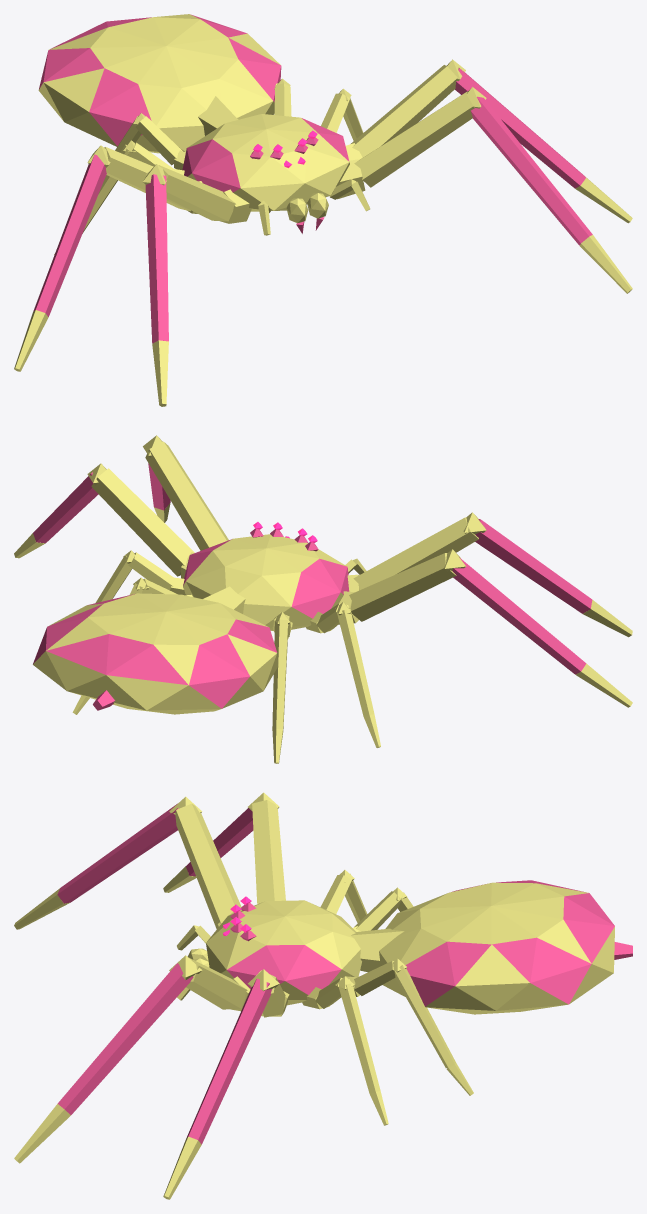
Rendered from crab.glb.
3 views of the same model, one above another, from view 1: azimuth 30°, elevation 25°; view 2: azimuth 150°, elevation 25°; view 3: azimuth 270°, elevation 25° (orthographic). The views are drawn at different scales.
Parts seen in each view (by area): view 1: abdomen, body, leg_L1_lower, leg_R1_lower, leg_R2_lower, leg_L1_upper, leg_L2_lower, leg_L2_upper, leg_R1_upper, leg_R2_upper, leg_R4_upper, fangs (+2 smaller); view 2: abdomen, body, leg_R2_lower, leg_R1_lower, leg_L2_upper, leg_L1_upper, leg_R2_upper, leg_R1_upper, leg_L2_lower, leg_R3_lower, leg_R4_lower, leg_L3_upper (+3 smaller); view 3: abdomen, body, leg_L1_lower, leg_L2_lower, leg_R1_lower, leg_R1_upper, leg_R2_upper, leg_L3_lower, leg_L4_lower, leg_L1_upper, leg_R2_lower, leg_R4_upper (+4 smaller).
Part boxes in pixels (x1=…): abdomen: x1=38, y1=14, x2=281, y2=153; body: x1=182, y1=114, x2=349, y2=211; leg_L1_lower: x1=466, y1=87, x2=632, y2=293; leg_R1_lower: x1=143, y1=164, x2=168, y2=406; leg_R2_lower: x1=14, y1=145, x2=110, y2=371; leg_L1_upper: x1=337, y1=91, x2=474, y2=199; leg_L2_lower: x1=447, y1=59, x2=632, y2=223; leg_L2_upper: x1=345, y1=65, x2=457, y2=160; leg_R1_upper: x1=146, y1=165, x2=251, y2=223; leg_R2_upper: x1=104, y1=147, x2=202, y2=213; leg_R4_upper: x1=135, y1=116, x2=185, y2=169; fangs: x1=286, y1=193, x2=328, y2=233; abdomen: x1=33, y1=586, x2=278, y2=714; body: x1=183, y1=522, x2=349, y2=630; leg_R2_lower: x1=444, y1=549, x2=632, y2=707; leg_R1_lower: x1=463, y1=512, x2=632, y2=637; leg_L2_upper: x1=91, y1=468, x2=194, y2=578; leg_L1_upper: x1=145, y1=441, x2=228, y2=550; leg_R2_upper: x1=339, y1=553, x2=456, y2=624; leg_R1_upper: x1=347, y1=517, x2=478, y2=592; leg_L2_lower: x1=14, y1=463, x2=106, y2=558; leg_R3_lower: x1=335, y1=602, x2=380, y2=747; leg_R4_lower: x1=272, y1=612, x2=290, y2=763; leg_L3_upper: x1=128, y1=552, x2=186, y2=595; abdomen: x1=351, y1=880, x2=632, y2=1014; body: x1=206, y1=896, x2=361, y2=1005; leg_L1_lower: x1=14, y1=955, x2=202, y2=1163; leg_L2_lower: x1=163, y1=969, x2=279, y2=1199; leg_R1_lower: x1=14, y1=796, x2=202, y2=929; leg_R1_upper: x1=175, y1=803, x2=241, y2=929; leg_R2_upper: x1=252, y1=800, x2=285, y2=904; leg_L3_lower: x1=335, y1=976, x2=388, y2=1125; leg_L4_lower: x1=393, y1=958, x2=473, y2=1095; leg_L1_upper: x1=186, y1=957, x2=250, y2=1011; leg_R2_lower: x1=163, y1=792, x2=279, y2=892; leg_R4_upper: x1=353, y1=891, x2=401, y2=931.
Bounding box in the file's own units: 6.2 × 1.59 × 5.22.
